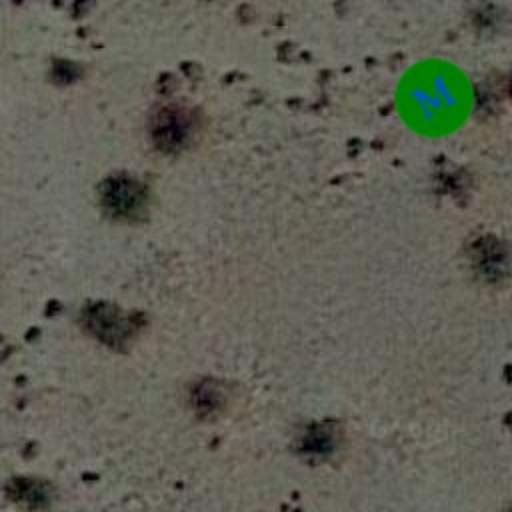circle: (378, 42, 490, 154)
